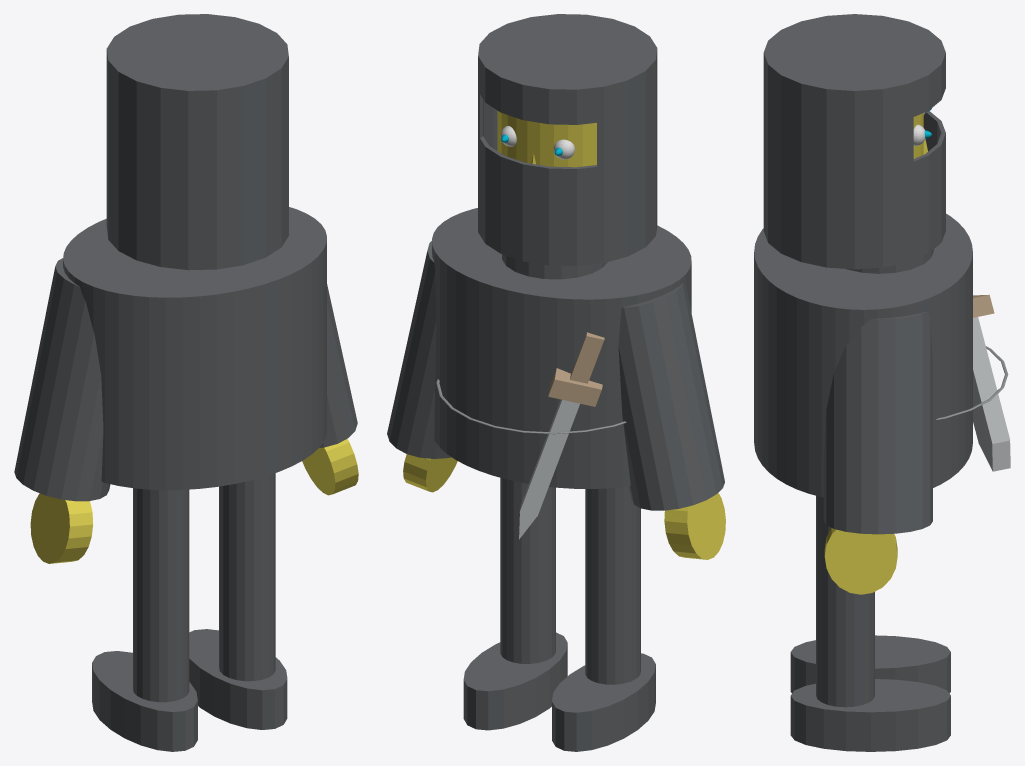
File: person.glb
3 views of the same model, side by side, from view 1: azimuth 30°, elevation 25°; view 2: azimuth 150°, elevation 25°; view 3: azimuth 270°, elevation 25° (orthographic).
Parts seen in each view (by area): view 1: Mesh_Mesh_head_geo.001_lambert2SG.001; view 2: Mesh_Mesh_head_geo.001_lambert2SG.001; view 3: Mesh_Mesh_head_geo.001_lambert2SG.001.
Boxes of the visible parts, bbox=[...] form: Mesh_Mesh_head_geo.001_lambert2SG.001: bbox=[14, 14, 358, 751]; Mesh_Mesh_head_geo.001_lambert2SG.001: bbox=[387, 14, 725, 751]; Mesh_Mesh_head_geo.001_lambert2SG.001: bbox=[754, 14, 1010, 751].
Bounding box in the file's own units: 51.4 × 100 × 35.19.
